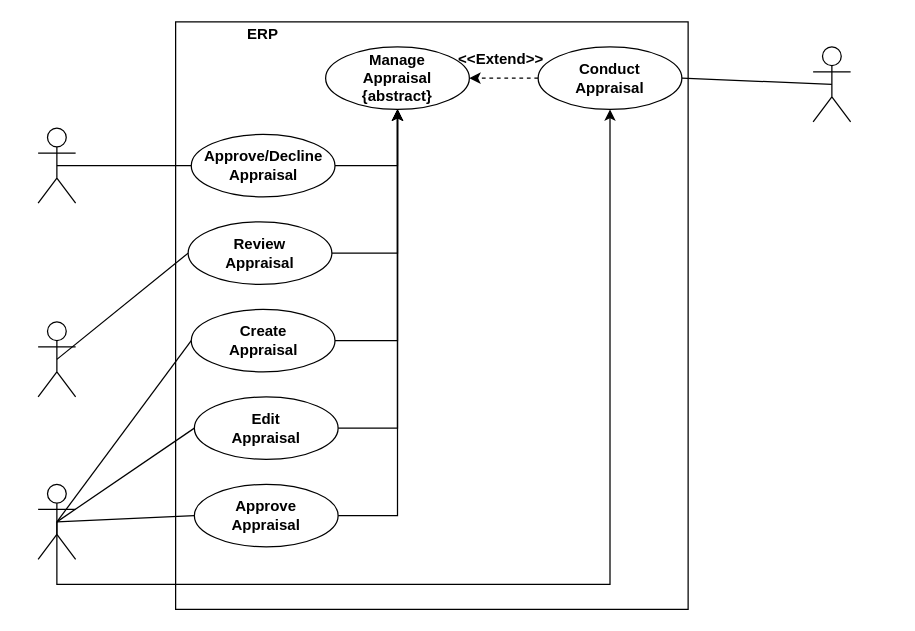
The diagram is 915 pixels wide and 631 high, and some of its shapes have lost their labels. The shapes that lost their labels are listed below. From the top down, each one's centre as x and y in pixels, then its label:
At [831,84]: "Department Head".
At [56,165]: "General Manager".
At [56,359]: "Employee".
At [56,521]: "HR".
